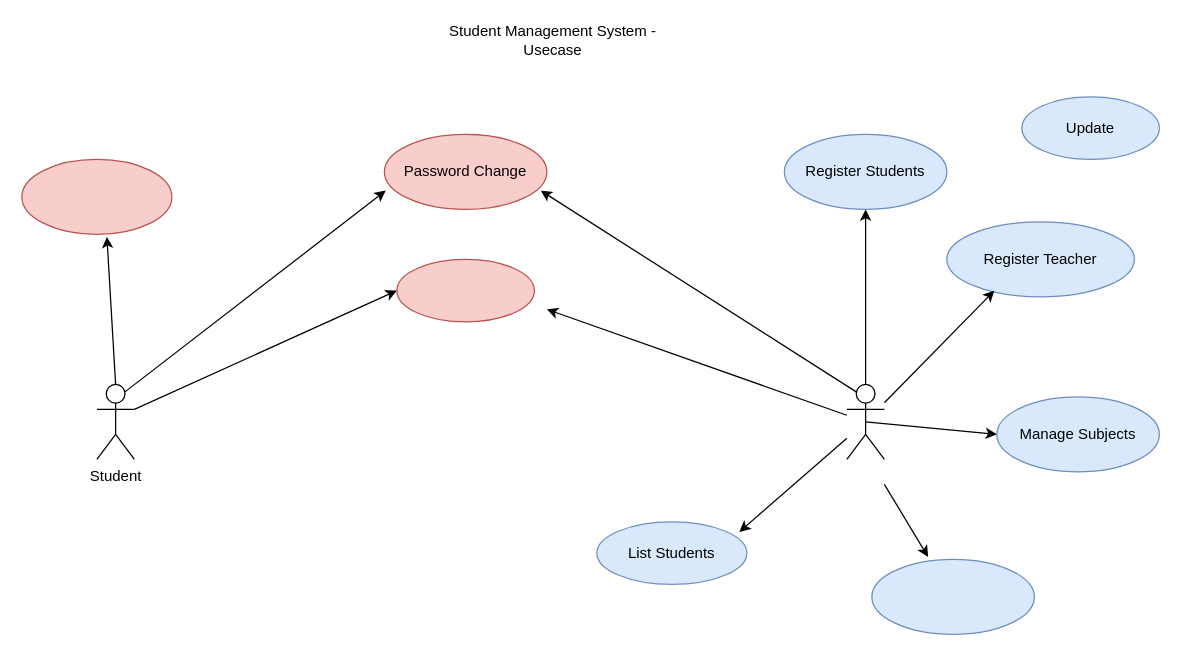
Image size: 1181x656. Some labels were removed from this diagram. Here are the shapes that lost their labels. From the top down, the centre of each, then its label:
At (x=96, y=196): "View Profile".
At (x=465, y=290): "Log".
At (x=865, y=421): "Admin".
At (x=952, y=596): "List Teachers".
